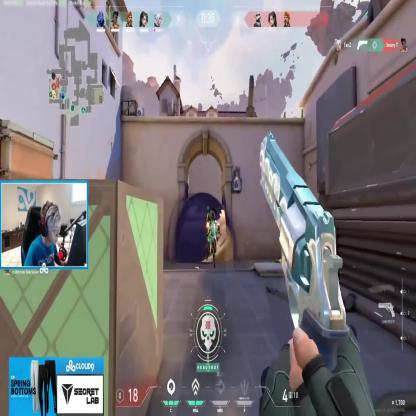enemy: (206, 210, 220, 268)
enemy_head: (209, 211, 215, 220)
